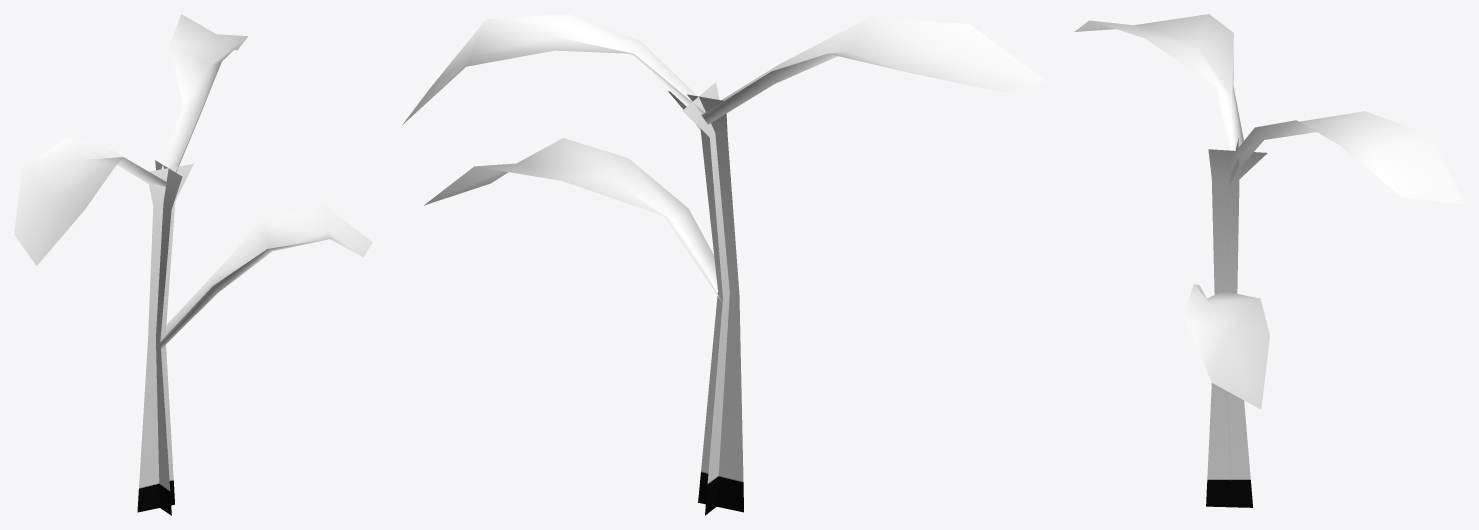
File: SM_Spourt.FBX
3 renders of one model, left to right at view 1: azimuth 30°, elevation 25°; view 2: azimuth 150°, elevation 25°; view 3: azimuth 270°, elevation 25°, orthographic. The views are drawn at different scales.
Parts seen in each view (by area): view 1: SM_Spourt; view 2: SM_Spourt; view 3: SM_Spourt.
Boxes of the visible parts, x1,y1,x2,y2 form: SM_Spourt: (14,14,372,515); SM_Spourt: (402,14,1045,515); SM_Spourt: (1074,14,1464,507).
Bounding box in the file's own units: 23.94 × 21.8 × 17.7.
